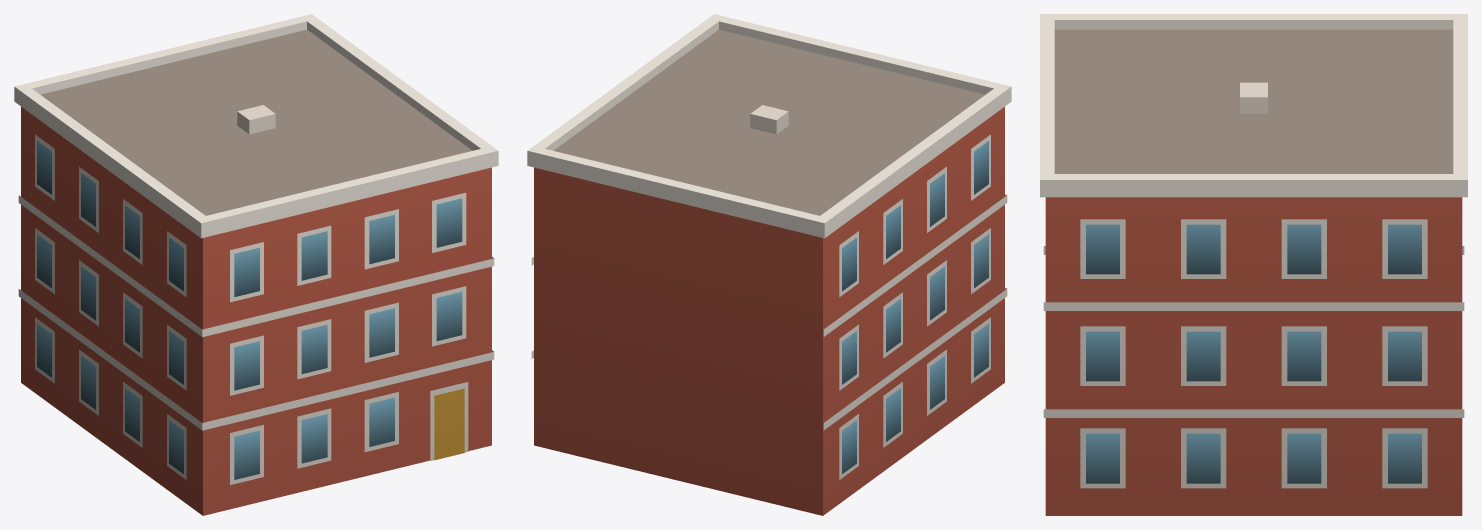
File: beacon_wb2_far.glb
3 views of the same model, side by side, from view 1: azimuth 30°, elevation 25°; view 2: azimuth 150°, elevation 25°; view 3: azimuth 270°, elevation 25° (orthographic). The views are drawn at different scales.
Visible parts, largest first — view 1: beacon_wb2_far; view 2: beacon_wb2_far; view 3: beacon_wb2_far.
Boxes of the visible parts, box(x1,y1,x2,y2) form: beacon_wb2_far: box(14, 14, 498, 515); beacon_wb2_far: box(527, 14, 1011, 515); beacon_wb2_far: box(1040, 14, 1467, 515).
Size of the model in its own units: 11.32 by 10.97 by 12.32.
1 material, 1 textured.
